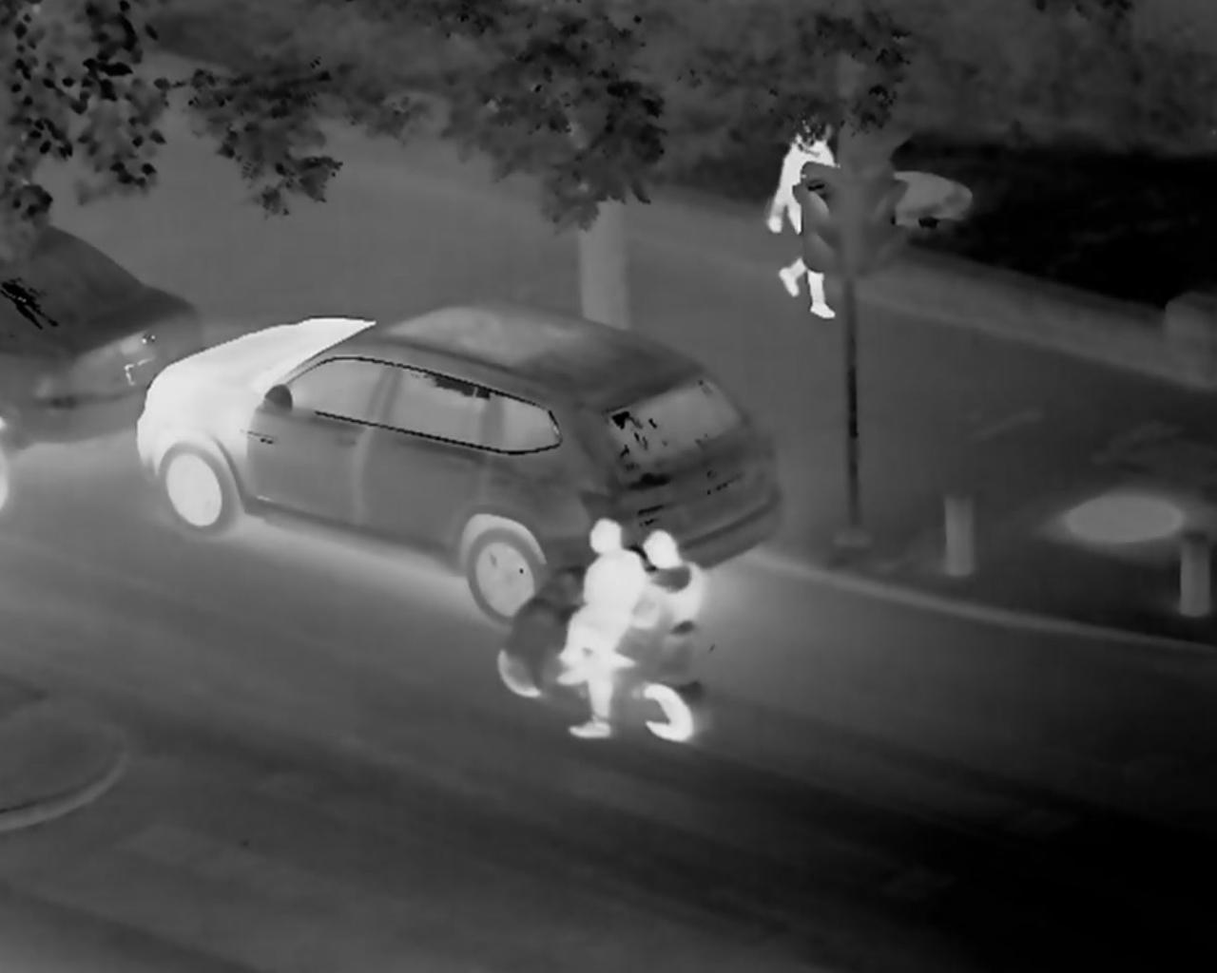person: (555, 522, 706, 695), (568, 515, 647, 740), (777, 111, 847, 328)
